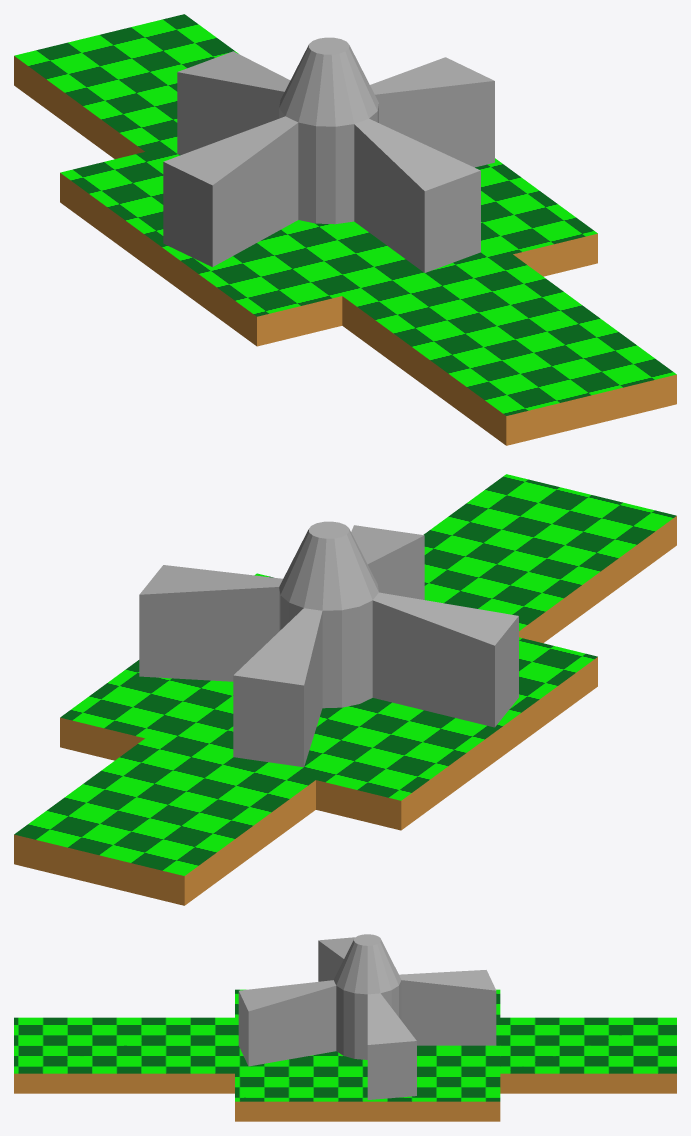
Rendered from engine.glb.
3 renders of one model, top to bottom at view 1: azimuth 30°, elevation 25°; view 2: azimuth 150°, elevation 25°; view 3: azimuth 270°, elevation 25°, orthographic. The views are drawn at different scales.
Parts seen in each view (by area): view 1: StartPlatform, Engine; view 2: StartPlatform, Engine; view 3: StartPlatform, Engine.
Boxes of the visible parts, x1,y1,x2,y2 form: StartPlatform: [14, 14, 676, 445]; Engine: [163, 37, 494, 272]; StartPlatform: [14, 474, 676, 905]; Engine: [139, 521, 518, 767]; StartPlatform: [14, 989, 676, 1121]; Engine: [238, 934, 496, 1099].
Bounding box in the file's own units: 36 × 18.83 × 90.
3 materials, 2 textured.
